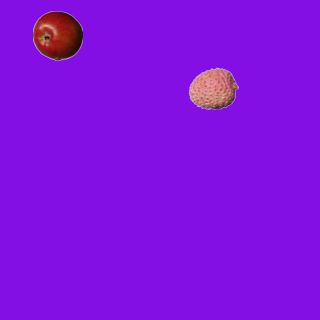Apple Braeburn: (32, 10, 82, 60)
Lychee: (188, 63, 238, 113)
